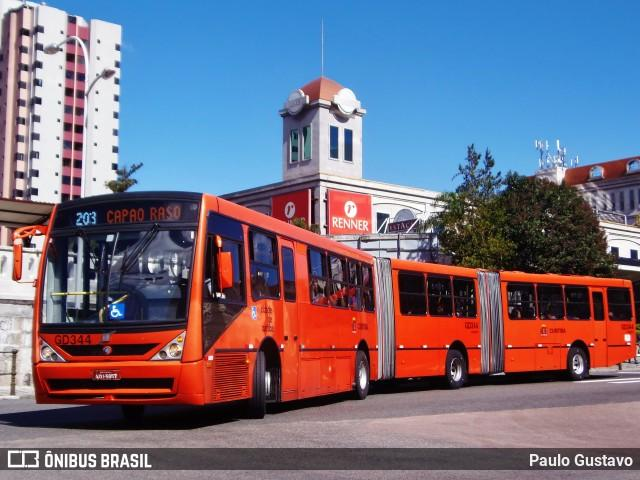CAPAO RASO: (102, 203, 184, 226)
